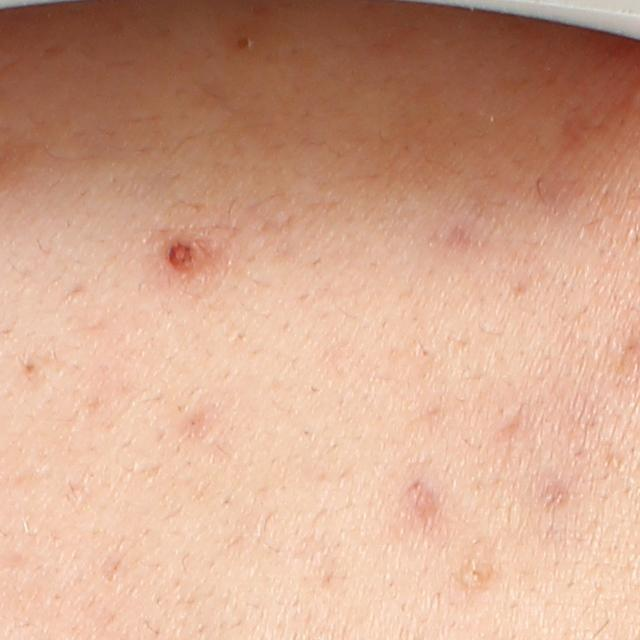atrophic_scar: (496, 397, 526, 443)
comedo: (463, 553, 499, 593), (15, 357, 40, 383)
papule: (160, 235, 218, 279)
